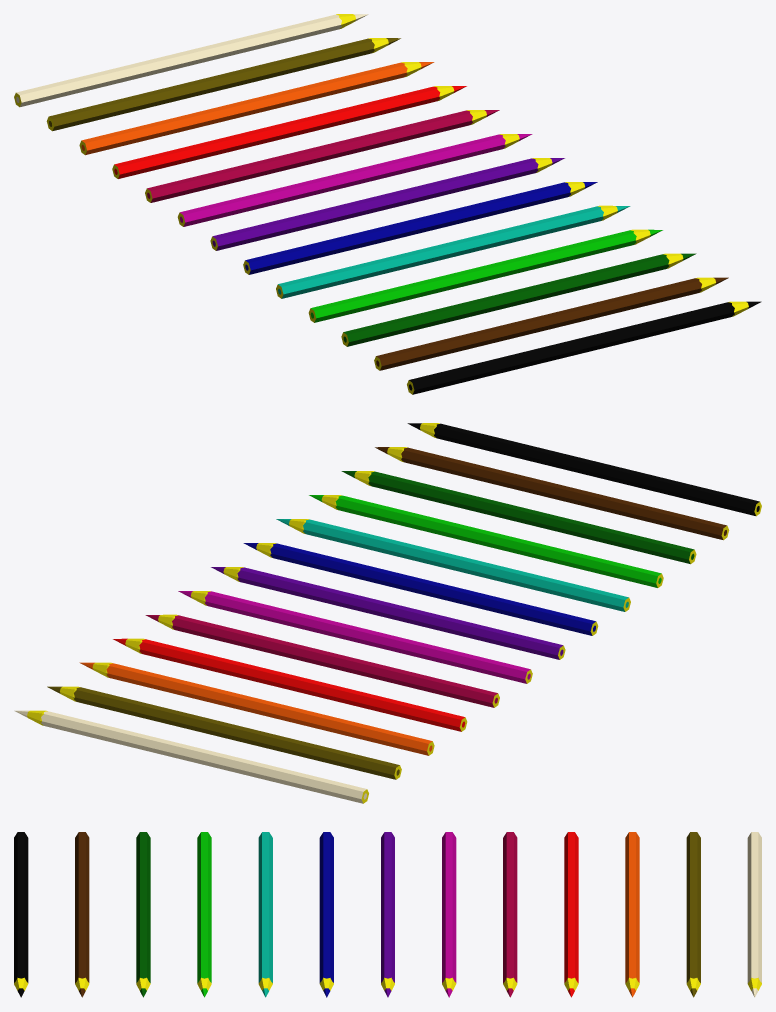
The model's file is ColouringPencils.fbx.
3 renders of one model, top to bottom at view 1: azimuth 30°, elevation 25°; view 2: azimuth 150°, elevation 25°; view 3: azimuth 270°, elevation 25°, orthographic. The views are drawn at different scales.
Visible parts, largest first — view 1: BrownPencil, DarkGreenPencil, BlackPencil, LightGreenPencil, LightBluePencil, WhitePencil, OrangePencil, YellowPencil, PinkPencil, RedPencil, MaroonPencil, DarkBluePencil (+1 smaller); view 2: YellowPencil, OrangePencil, WhitePencil, RedPencil, MaroonPencil, BlackPencil, DarkGreenPencil, BrownPencil, DarkBluePencil, LightGreenPencil, LightBluePencil, PinkPencil (+1 smaller); view 3: LightGreenPencil, OrangePencil, RedPencil, DarkGreenPencil, YellowPencil, PinkPencil, WhitePencil, BrownPencil, DarkBluePencil, BlackPencil, LightBluePencil, MaroonPencil (+1 smaller).
Part boxes in pixels (left/top/right/bottom): BrownPencil: left=374, top=277, right=728, bottom=370; DarkGreenPencil: left=341, top=253, right=696, bottom=346; BlackPencil: left=407, top=301, right=761, bottom=394; LightGreenPencil: left=308, top=229, right=662, bottom=322; LightBluePencil: left=276, top=205, right=630, bottom=298; WhitePencil: left=14, top=14, right=368, bottom=107; OrangePencil: left=79, top=62, right=434, bottom=155; YellowPencil: left=46, top=38, right=400, bottom=131; PinkPencil: left=177, top=134, right=532, bottom=226; RedPencil: left=112, top=86, right=466, bottom=178; MaroonPencil: left=145, top=110, right=499, bottom=202; DarkBluePencil: left=243, top=182, right=597, bottom=274; YellowPencil: left=47, top=686, right=401, bottom=779; OrangePencil: left=79, top=662, right=434, bottom=755; WhitePencil: left=14, top=710, right=368, bottom=803; RedPencil: left=113, top=638, right=467, bottom=731; MaroonPencil: left=145, top=614, right=499, bottom=707; BlackPencil: left=407, top=423, right=761, bottom=516; DarkGreenPencil: left=341, top=471, right=696, bottom=564; BrownPencil: left=375, top=447, right=729, bottom=540; DarkBluePencil: left=243, top=543, right=598, bottom=635; LightGreenPencil: left=309, top=495, right=663, bottom=587; LightBluePencil: left=276, top=519, right=630, bottom=611; PinkPencil: left=178, top=591, right=532, bottom=683; LightGreenPencil: left=197, top=832, right=211, bottom=997; OrangePencil: left=625, top=832, right=639, bottom=997; RedPencil: left=564, top=832, right=578, bottom=997; DarkGreenPencil: left=136, top=832, right=150, bottom=997; YellowPencil: left=686, top=832, right=700, bottom=997; PinkPencil: left=442, top=832, right=456, bottom=997; WhitePencil: left=747, top=832, right=761, bottom=997; BrownPencil: left=75, top=832, right=89, bottom=997; DarkBluePencil: left=319, top=832, right=333, bottom=997; BlackPencil: left=14, top=832, right=28, bottom=997; LightBluePencil: left=258, top=832, right=272, bottom=997; MaroonPencil: left=503, top=832, right=517, bottom=997.
Size of the model in its own units: 18.59 by 0.6062 by 36.7.
